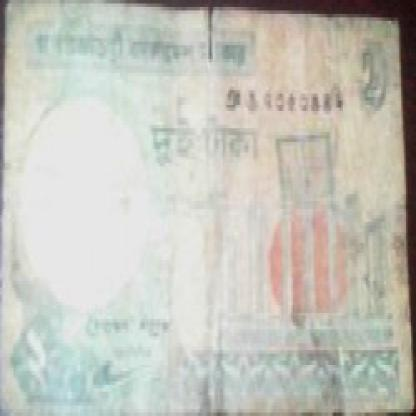two taka: (141, 108, 266, 190), (349, 38, 386, 125)
